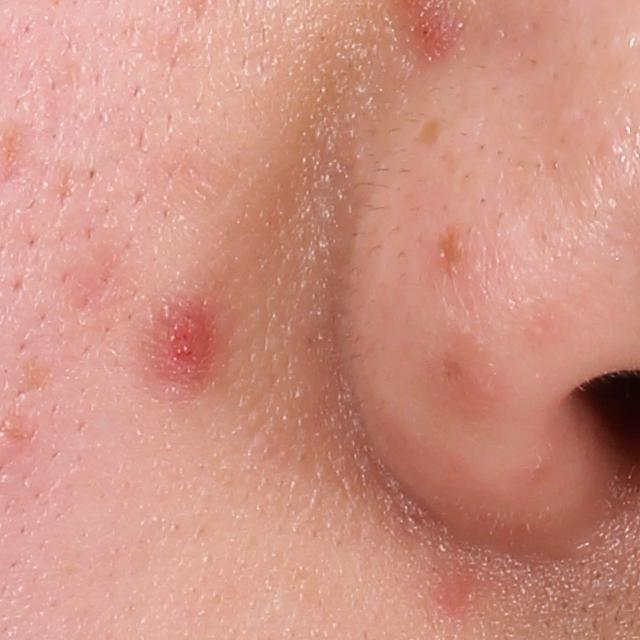papule: (154, 304, 217, 370)
